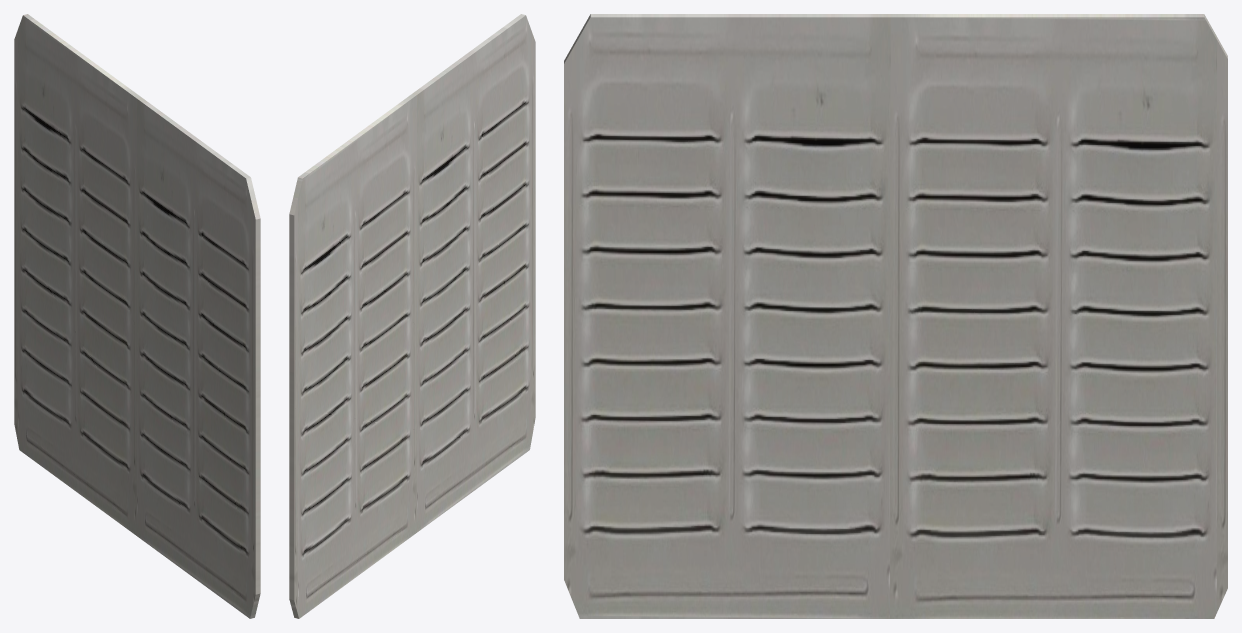
The model's file is Avent.211e0b13.gltf.
The picture shows the model from 3 angles, left to right: view 1: azimuth 30°, elevation 25°; view 2: azimuth 150°, elevation 25°; view 3: azimuth 270°, elevation 25°; orthographic projection. The views are drawn at different scales.
Parts seen in each view (by area): view 1: Plane; view 2: Plane; view 3: Plane.
Part boxes in pixels (box(x1,y1,x2,y2)): Plane: box(14, 14, 260, 618); Plane: box(289, 14, 535, 618); Plane: box(564, 14, 1227, 618).
Bounding box in the file's own units: 0.07 × 6 × 6.
1 material, 1 textured.
